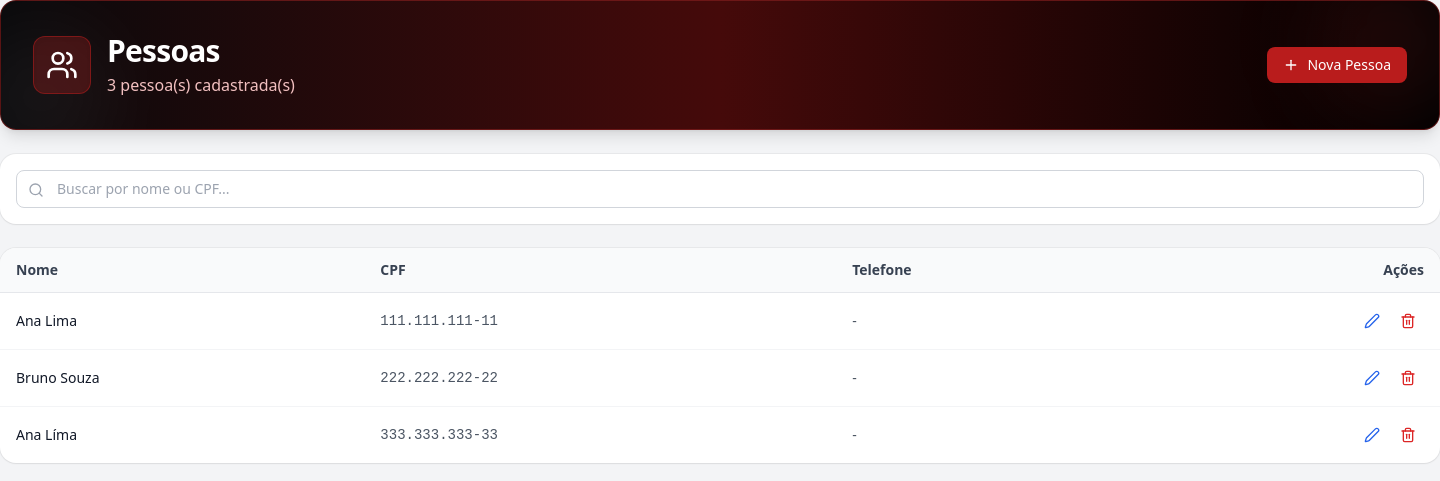
it: Pessoas busca › filtra por nome sem ser invalidado pela busca de CPF
expect the text "3 pessoa(s) cadastrada(s)" is shown: met, box [107,73,295,97]
Type "bruno" into the field with placeholder "Buscar por nome ou CPF..." at x=720, y=189, box [16,170,1424,208]
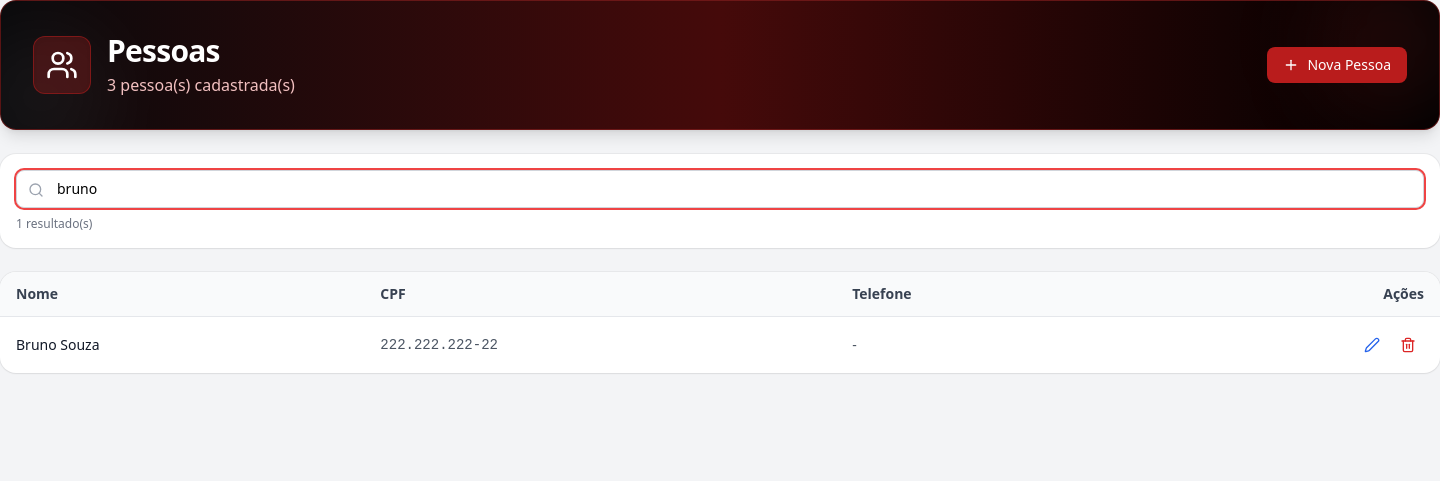
expect the text "1 resultado(s)" is shown: met, box [16,215,92,232]
expect the text "Bruno Souza" is shown 2 times: met
expect the text "Ana Lima" is gone: met
